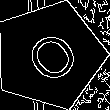O_SE: (16, 22, 84, 89)
